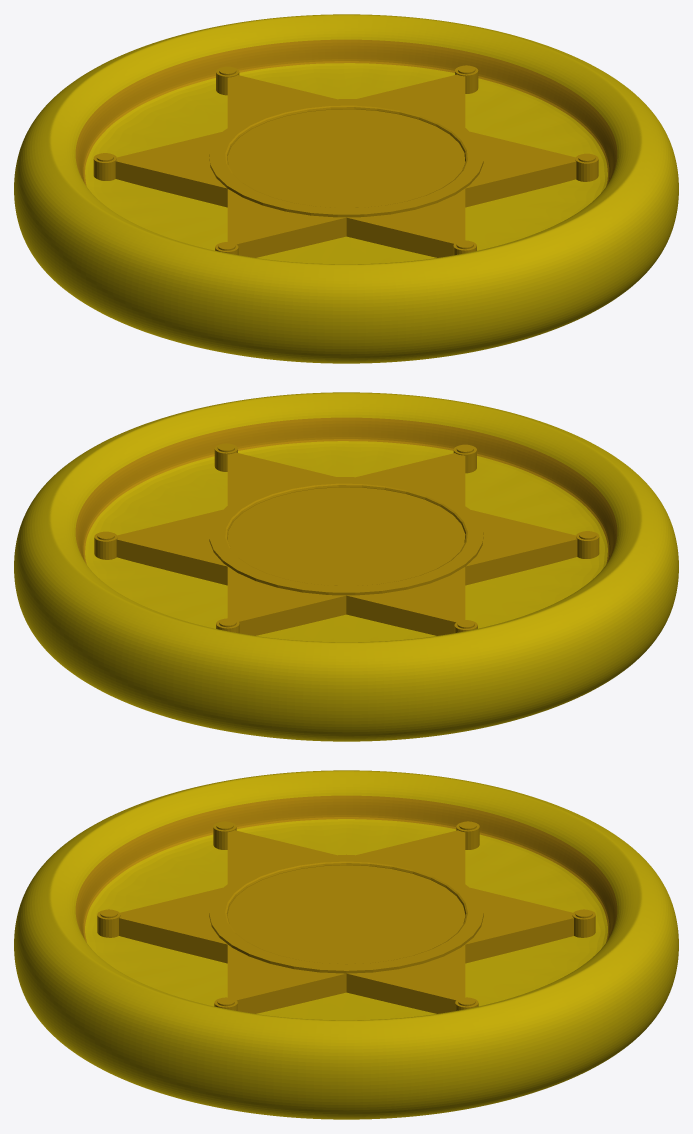
Rendered from Coin.fbx.
The picture shows the model from 3 angles, top to bottom: view 1: azimuth 30°, elevation 25°; view 2: azimuth 150°, elevation 25°; view 3: azimuth 270°, elevation 25°; orthographic projection.
Visible parts, largest first — view 1: Coin; view 2: Coin; view 3: Coin.
Part boxes in pixels (x1,y1,x2,y2): Coin: (14,14,678,363); Coin: (14,392,678,741); Coin: (14,770,678,1119).
Bounding box in the file's own units: 1.04 × 1.04 × 0.1696.
